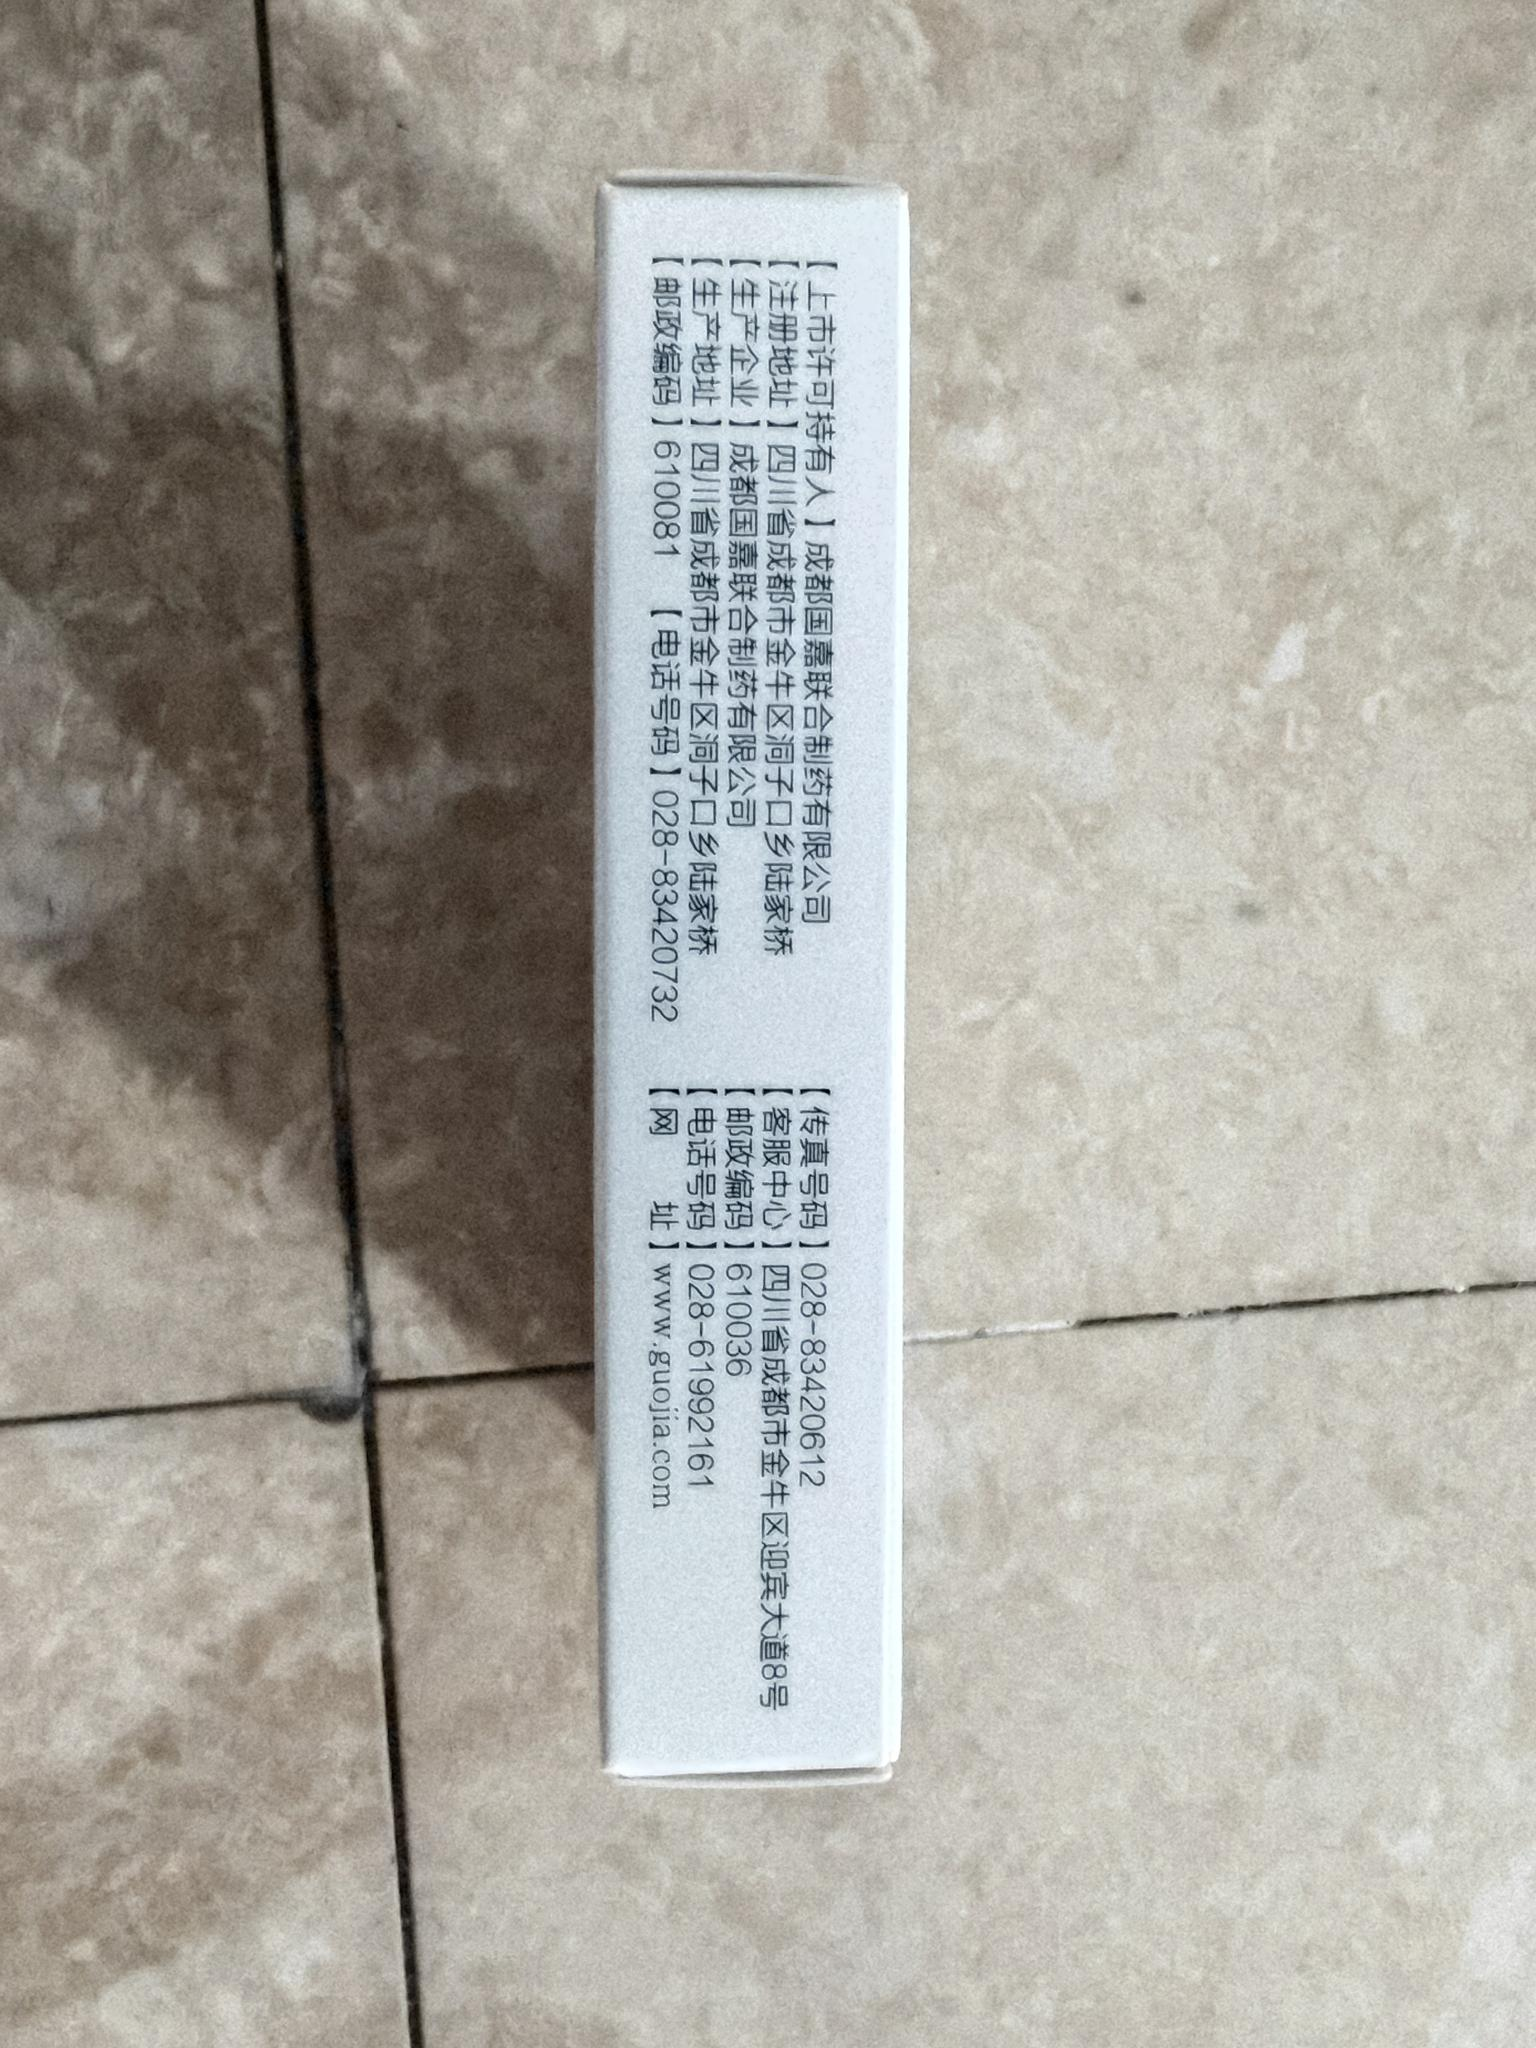Medicine4: (563, 131, 945, 1813)
